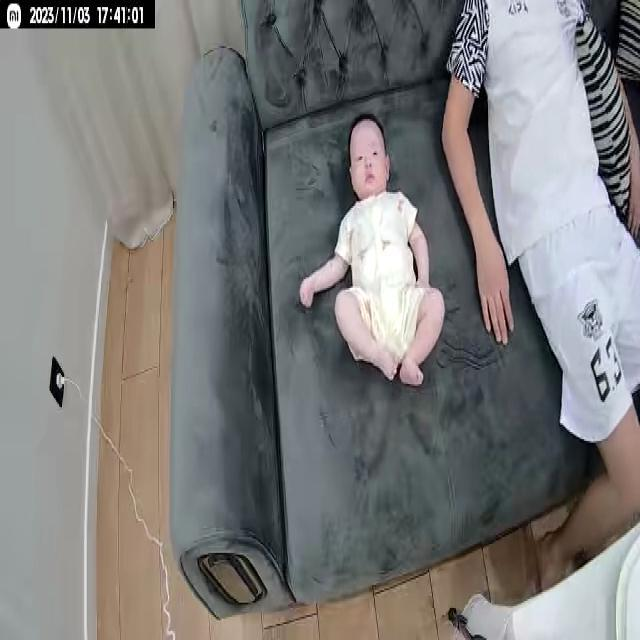baby: (296, 111, 446, 387)
